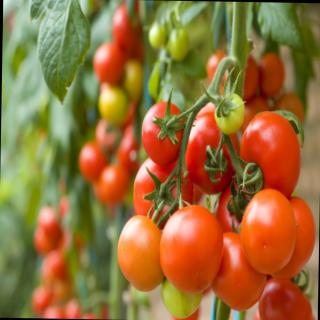Tomat: (159, 204, 225, 295), (239, 111, 303, 200), (184, 101, 241, 196), (240, 188, 299, 276), (211, 231, 268, 312), (133, 157, 195, 231), (117, 214, 167, 293), (141, 97, 187, 167), (215, 92, 247, 136)
